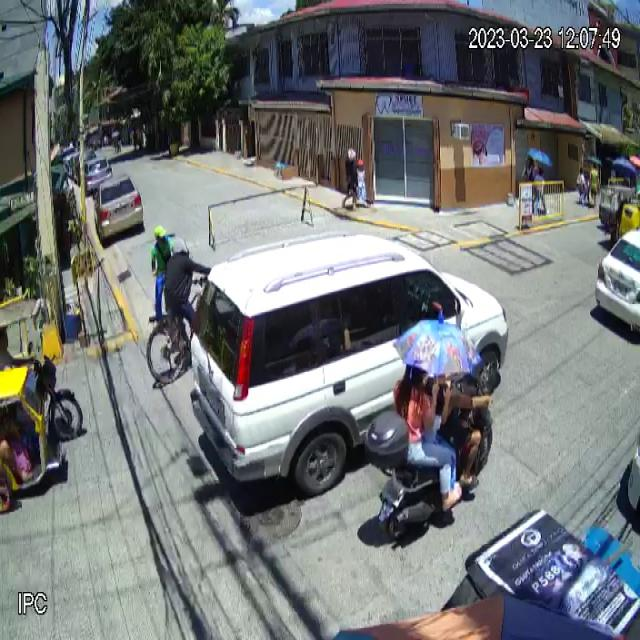Car: (188, 236, 510, 497), (92, 174, 144, 243)
Tricycle: (0, 296, 82, 513)
